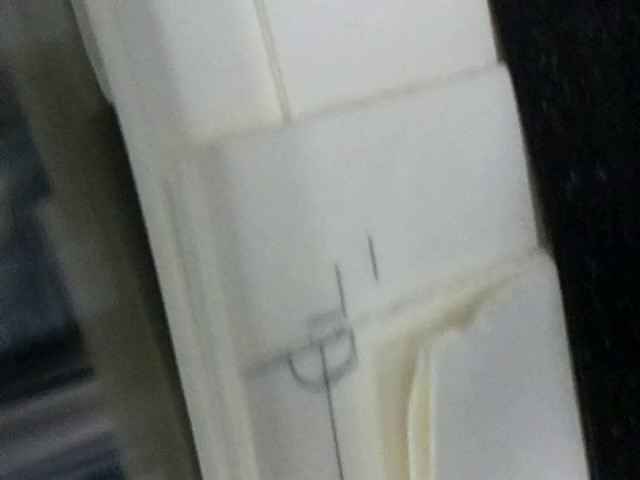misaligned: (237, 263, 372, 398)
